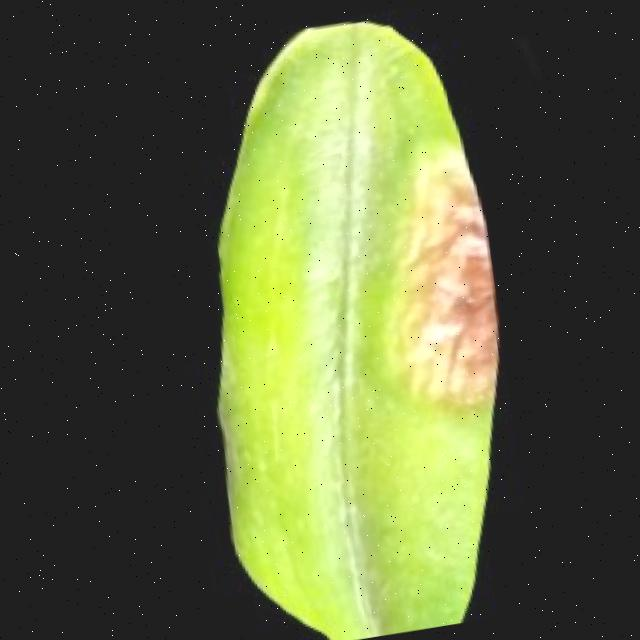spots: (159, 5, 545, 640)
sunburn: (368, 158, 516, 423)
